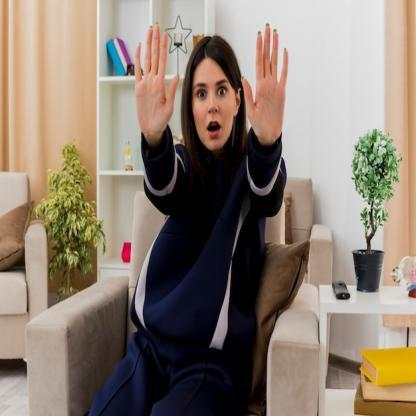stop: (239, 18, 290, 149), (134, 19, 180, 136)
